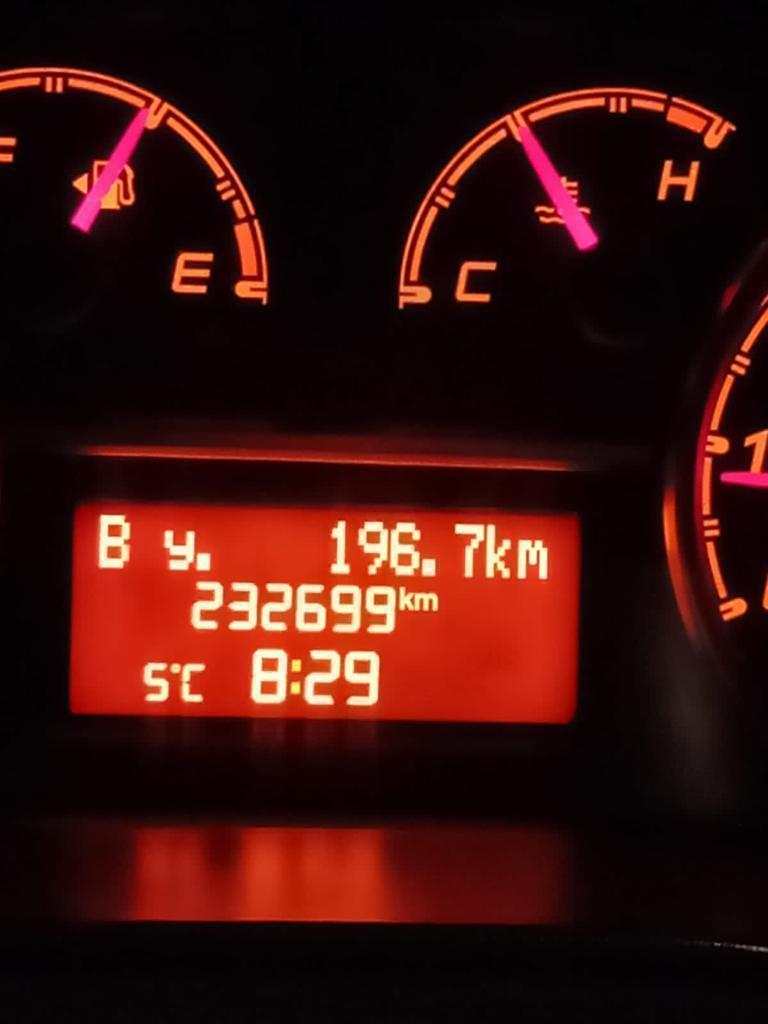,: (420, 553, 442, 580), (195, 549, 213, 572)
1: (329, 517, 354, 577)
2: (304, 648, 341, 705), (190, 579, 224, 628), (261, 581, 291, 632)
3: (228, 579, 258, 631)
5: (143, 660, 170, 702)
6: (391, 518, 419, 577), (295, 580, 326, 632)
7: (454, 520, 484, 579)
8: (252, 646, 286, 705)
9: (343, 647, 380, 706), (357, 517, 389, 576), (331, 583, 362, 634), (366, 584, 397, 634)
X: (97, 510, 129, 573), (485, 522, 513, 580), (516, 535, 550, 581), (161, 526, 194, 570), (180, 659, 206, 703), (414, 590, 439, 614), (290, 655, 301, 698), (399, 584, 413, 612)
odometer: (50, 490, 589, 731)
